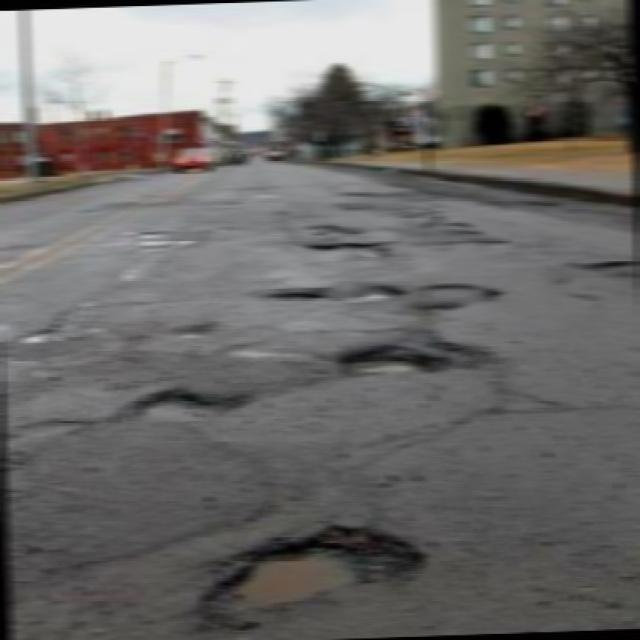Pothole: (182, 518, 432, 624), (120, 377, 258, 434), (333, 339, 462, 392), (341, 189, 478, 232), (12, 409, 95, 451), (410, 280, 506, 316), (123, 223, 204, 260), (302, 232, 394, 264), (6, 320, 90, 351), (258, 280, 336, 312), (569, 253, 640, 282), (342, 278, 402, 310), (409, 237, 508, 256), (298, 219, 361, 239)
